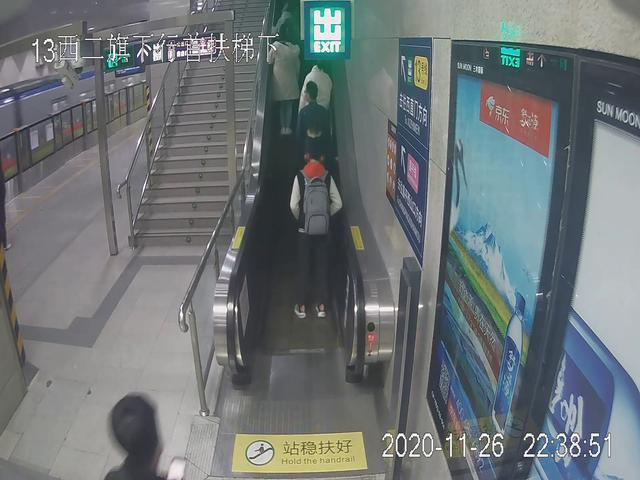person: (288, 141, 337, 316), (262, 16, 303, 152), (294, 80, 338, 182)
